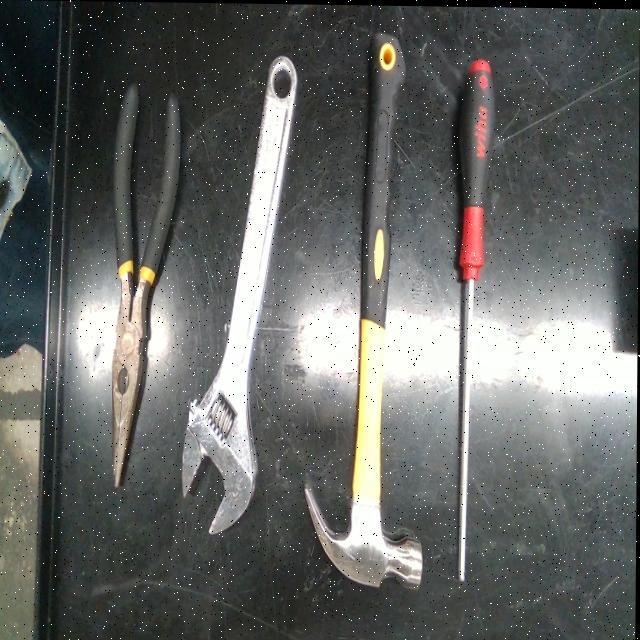Screwdriver: (459, 57, 494, 580)
